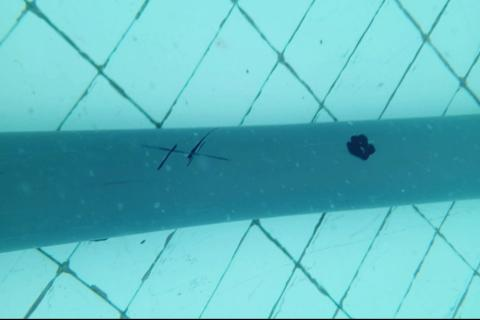kebocoran: (343, 133, 376, 163)
keretakan: (141, 129, 228, 171)
